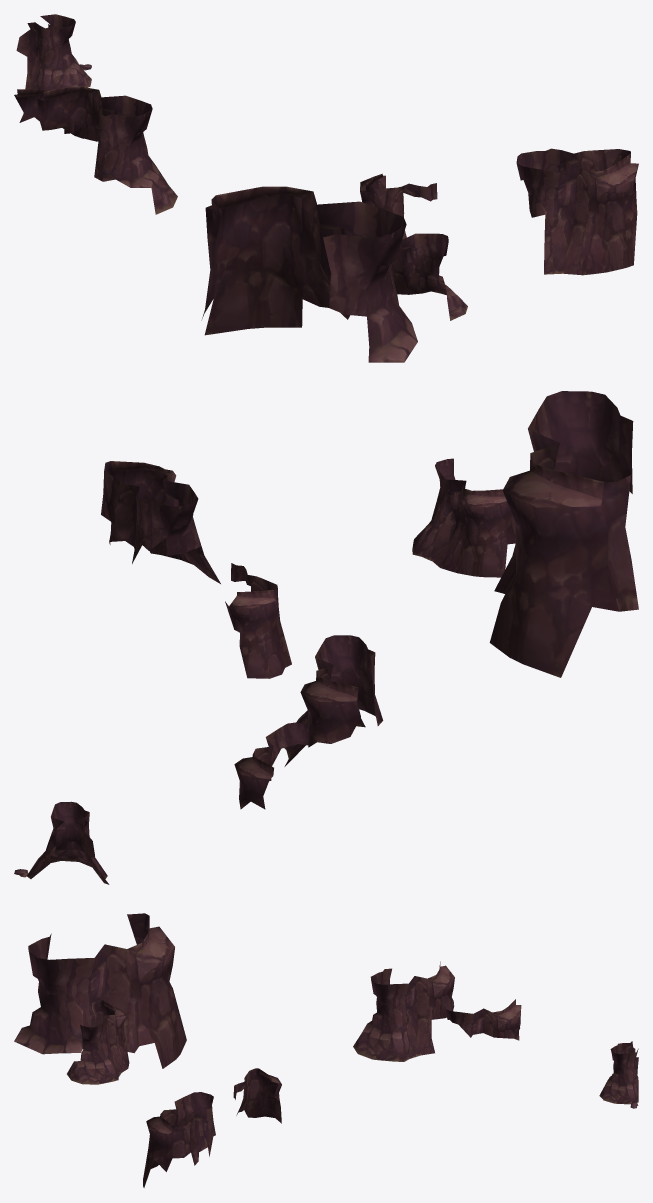
File: area14_shiqiang_03.FBX
3 renders of one model, top to bottom at view 1: azimuth 30°, elevation 25°; view 2: azimuth 150°, elevation 25°; view 3: azimuth 270°, elevation 25°, orthographic. The views are drawn at different scales.
Visible parts, largest first — view 1: area14_shiqiang_03; view 2: area14_shiqiang_03; view 3: area14_shiqiang_03.
Boxes of the visible parts, box(x1,y1,x2,y2) form: area14_shiqiang_03: box(14, 14, 638, 362); area14_shiqiang_03: box(14, 391, 638, 884); area14_shiqiang_03: box(14, 913, 638, 1187).
Size of the model in its own units: 8991 by 3157 by 14393.
